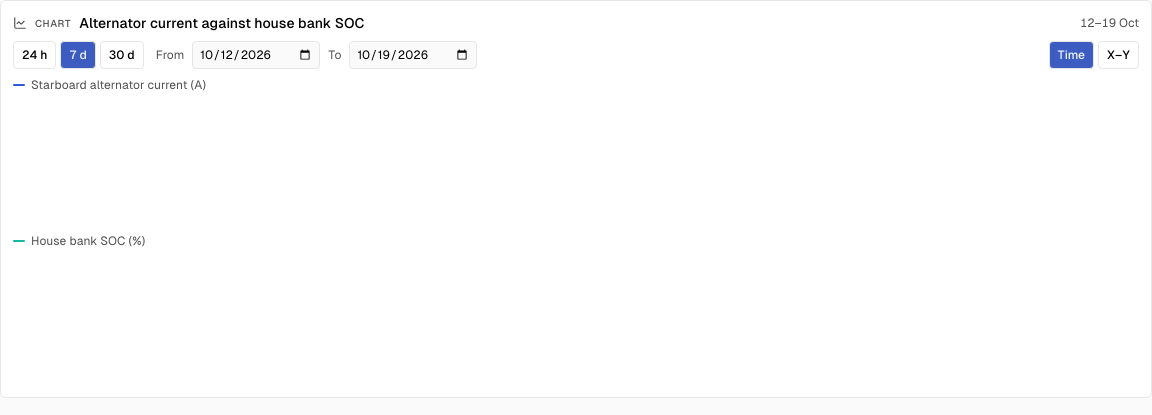
Test: AssistantTelemetryChartCard › treats the To date as inclusive: the same From and To day is that one whole day
Type "2026-10-14" into the date field labelled "From" at coordinates (256, 55), box [192,41,320,69]
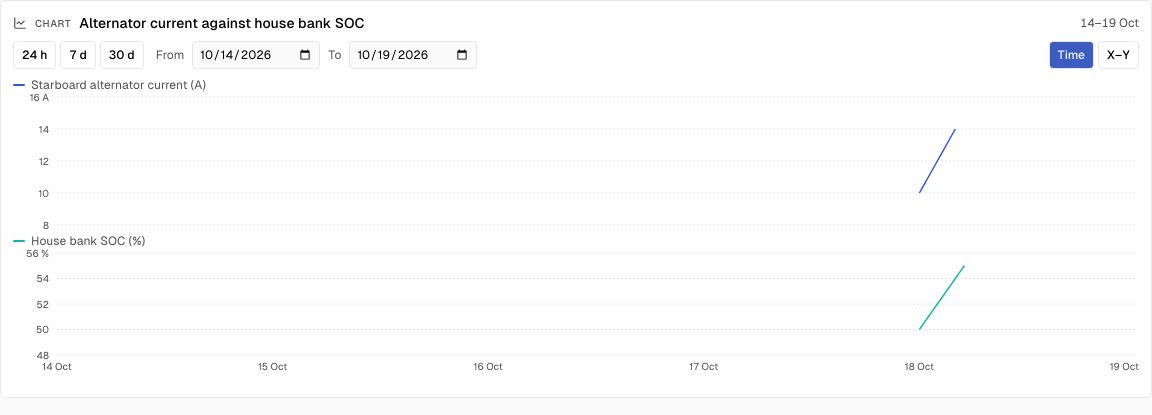
Type "2026-10-14" into the date field labelled "To" at coordinates (413, 55), box [349,41,477,69]
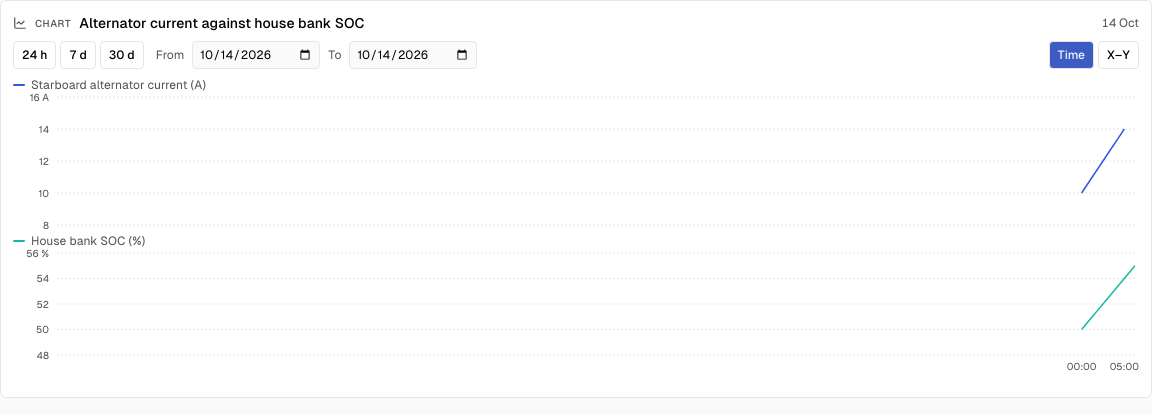
Check: the text "14 Oct" is shown, box [1102,15,1139,31]
